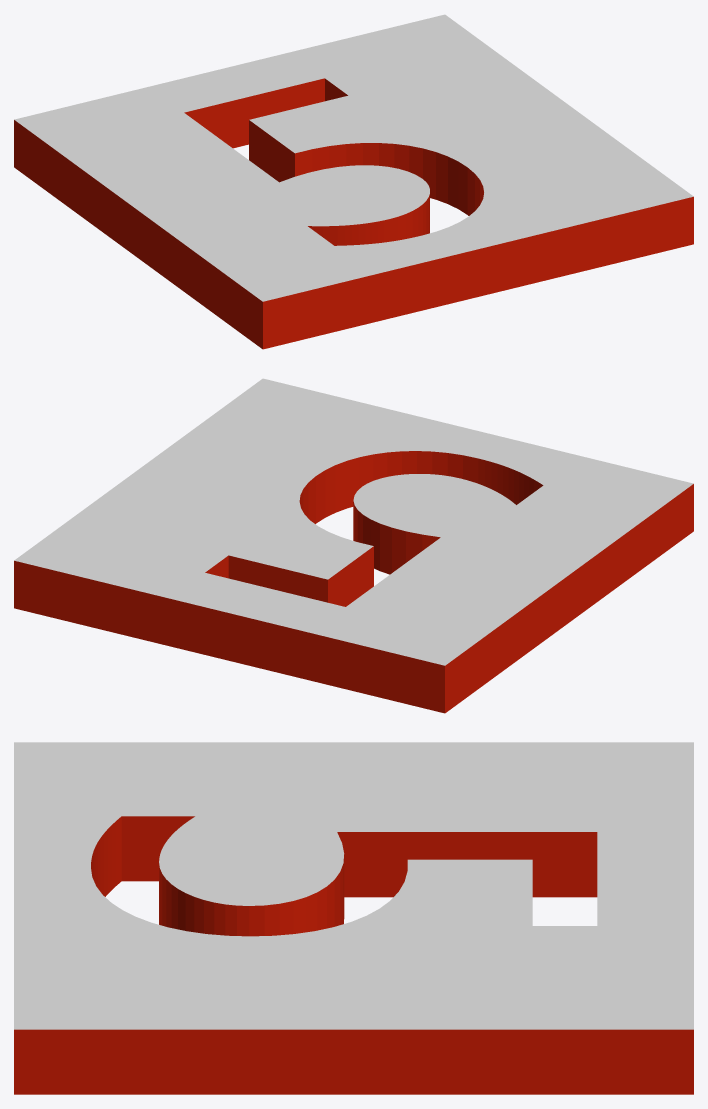
The model's file is stracout5.fbx.
3 renders of one model, top to bottom at view 1: azimuth 30°, elevation 25°; view 2: azimuth 150°, elevation 25°; view 3: azimuth 270°, elevation 25°, orthographic. The views are drawn at different scales.
Parts seen in each view (by area): view 1: 5; view 2: 5; view 3: 5.
Boxes of the visible parts, x1,y1,x2,y2 form: 5: (14, 14, 693, 349); 5: (14, 378, 693, 713); 5: (14, 742, 693, 1094).
Bounding box in the file's own units: 464 × 49.06 × 464.
